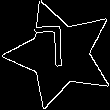L_S: (43, 29, 77, 80)
